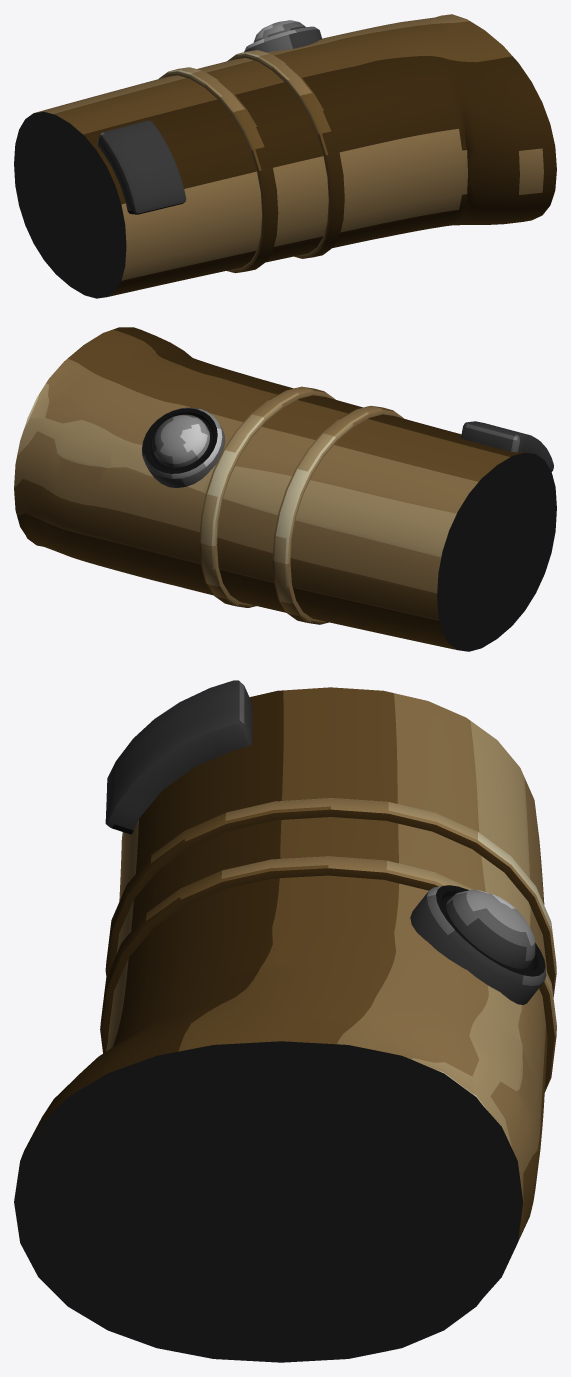
The model's file is tusk_arm_b_269.glb.
3 views of the same model, one above another, from view 1: azimuth 30°, elevation 25°; view 2: azimuth 150°, elevation 25°; view 3: azimuth 270°, elevation 25° (orthographic). The views are drawn at different scales.
Visible parts, largest first — view 1: tusk_arm_b_269; view 2: tusk_arm_b_269; view 3: tusk_arm_b_269.
Part boxes in pixels (<box>): tusk_arm_b_269: <box>14,14,556,298</box>; tusk_arm_b_269: <box>14,327,556,651</box>; tusk_arm_b_269: <box>14,680,556,1362</box>.
Bounding box in the file's own units: 24 × 10.47 × 15.16.
